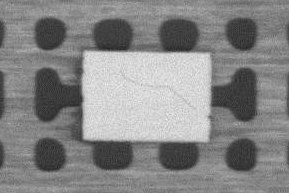DIE_CRACK: (120, 70, 196, 111)
